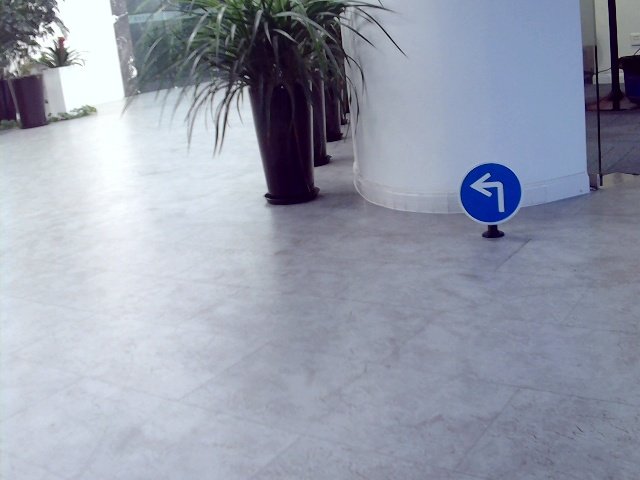turn_left: (468, 172, 507, 212)
